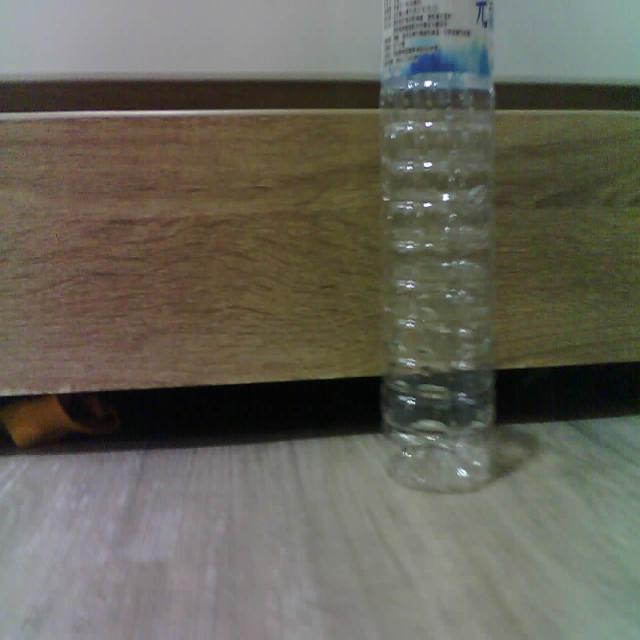bottle: (380, 0, 495, 490)
